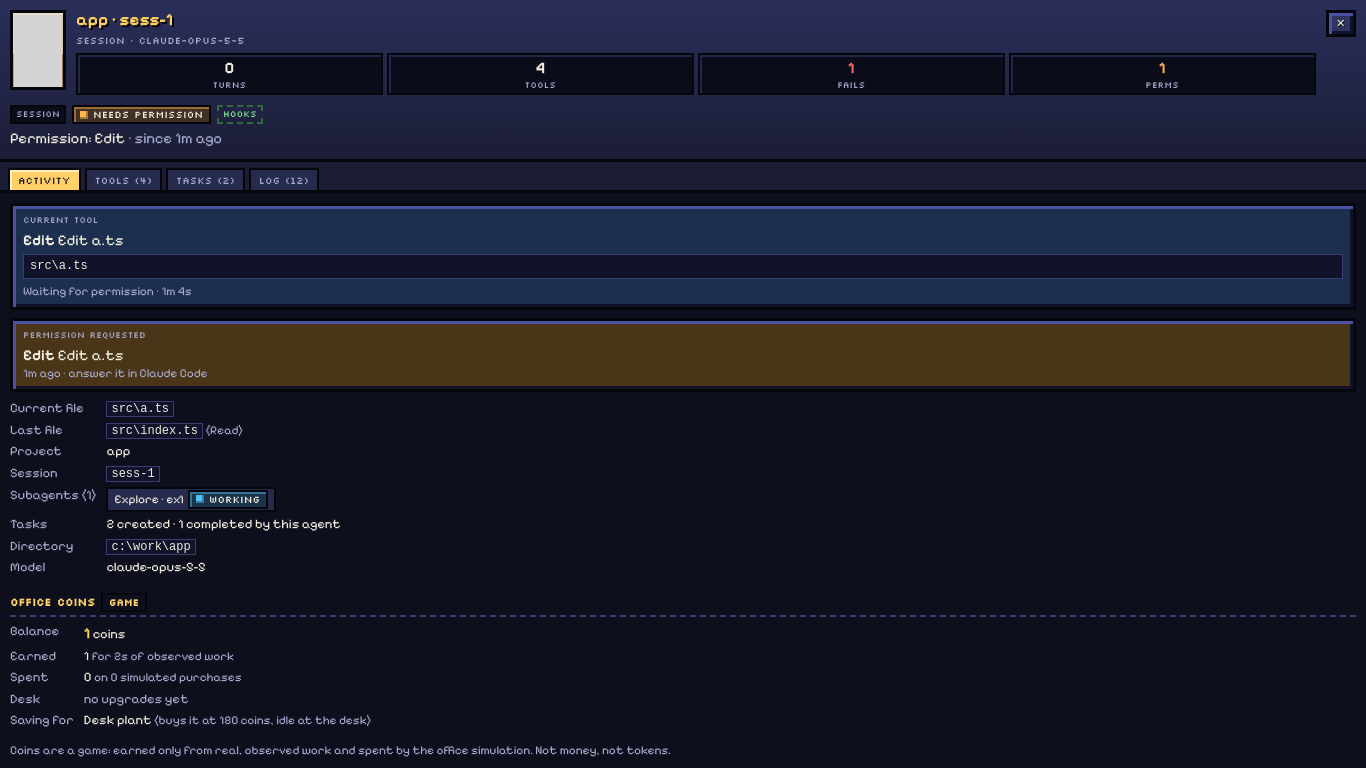
Test: Inspector dashboard additions › shows task history with creation, completion and duration
Click the tab "Tasks (2)": click(205, 179) [166,168,245,190]
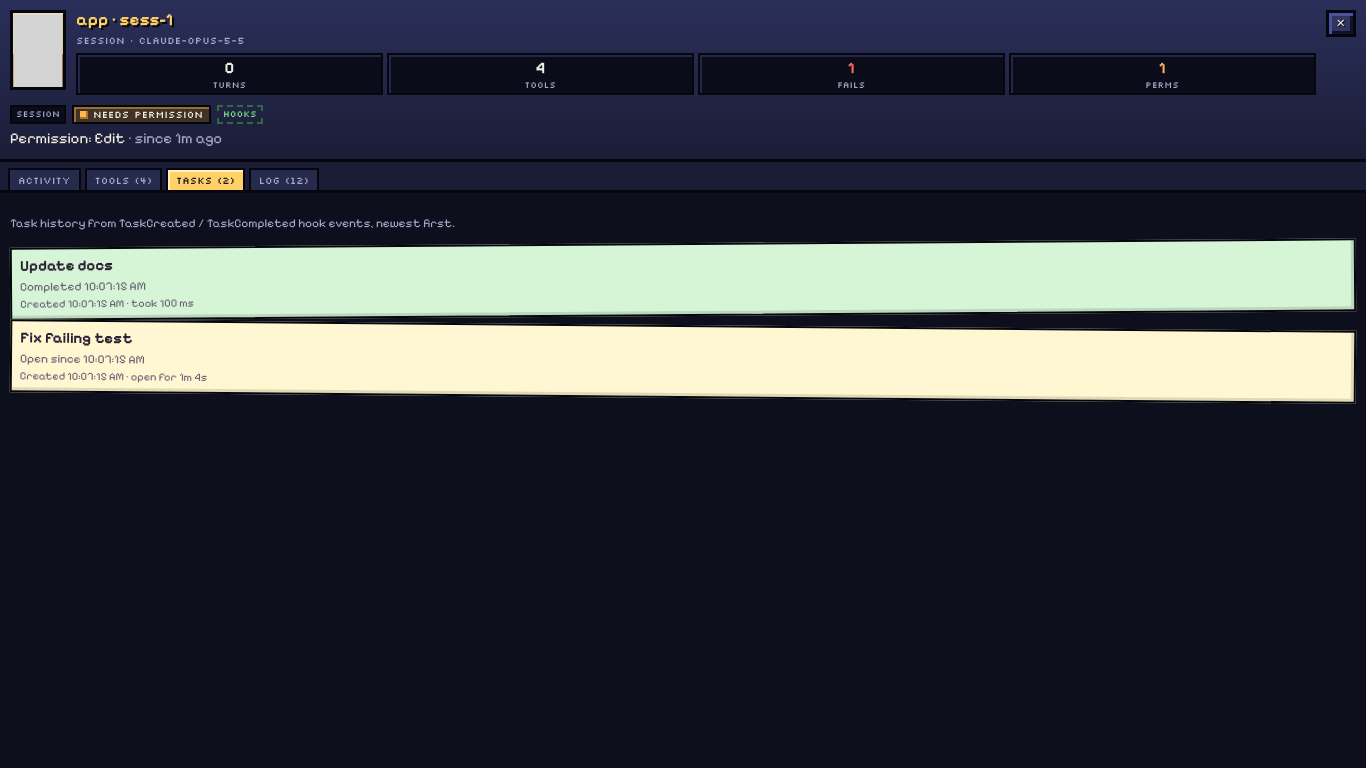
Now the text "Created 10:07:15 AM · took 100 ms" is shown, box [20,297,194,311]
Now the text "Created 10:07:15 AM · open for 1m 4s" is shown, box [20,369,207,384]
